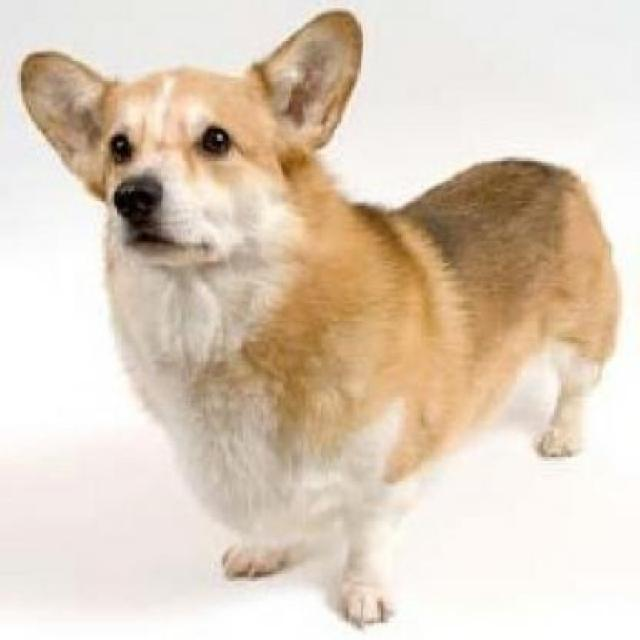Dog: (25, 10, 623, 632)
